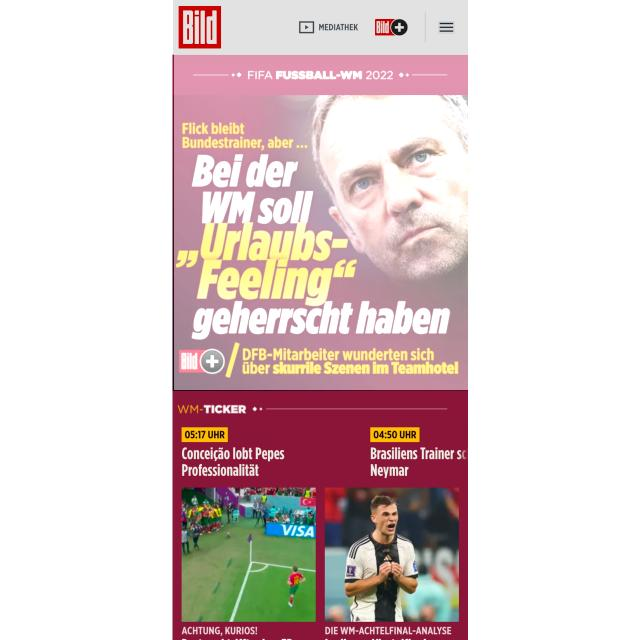bag: (173, 0, 468, 55)
card: (174, 54, 468, 390)
date picker: (176, 5, 222, 50)
decoration: (438, 21, 455, 34)
